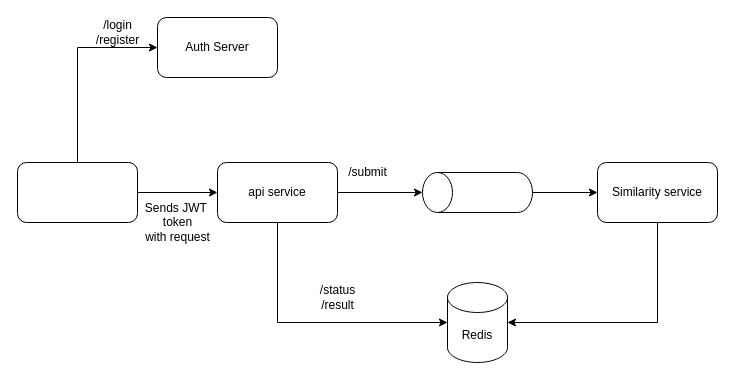
The diagram is 735 pixels wide and 380 high, and some of its shapes have lost their labels. The shapes that lost their labels are listed below. From the top down, each one's centre as x and y in pixels, then its label:
At point (77, 192): "Frontend Service".
At point (477, 192): "Message Queue".
